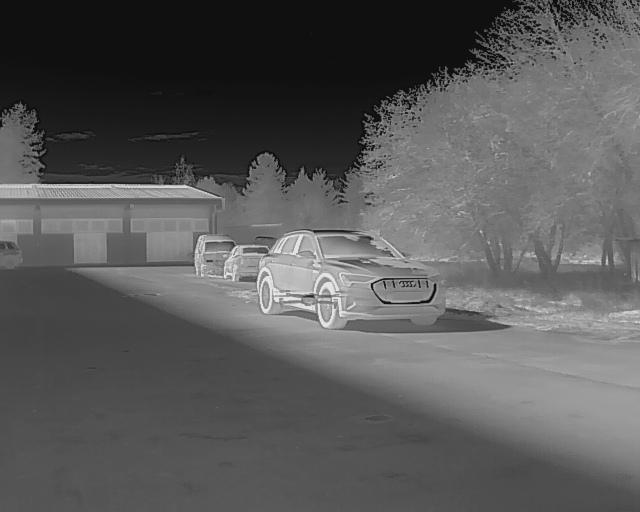drone: (270, 285, 341, 314)
